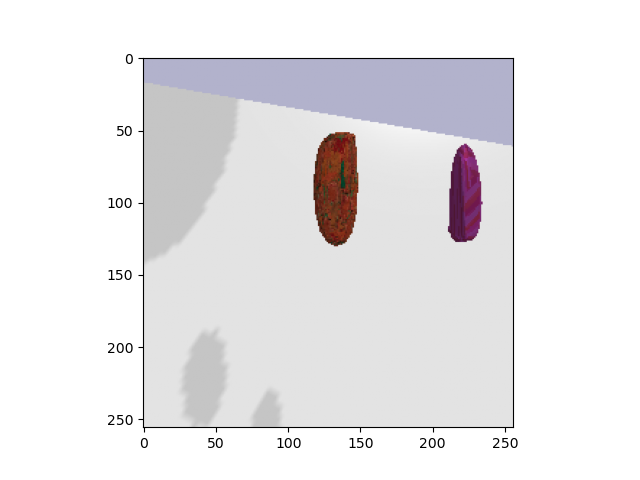v249b387_105: (444, 141, 487, 248)
v249b387_106: (307, 126, 370, 252)
